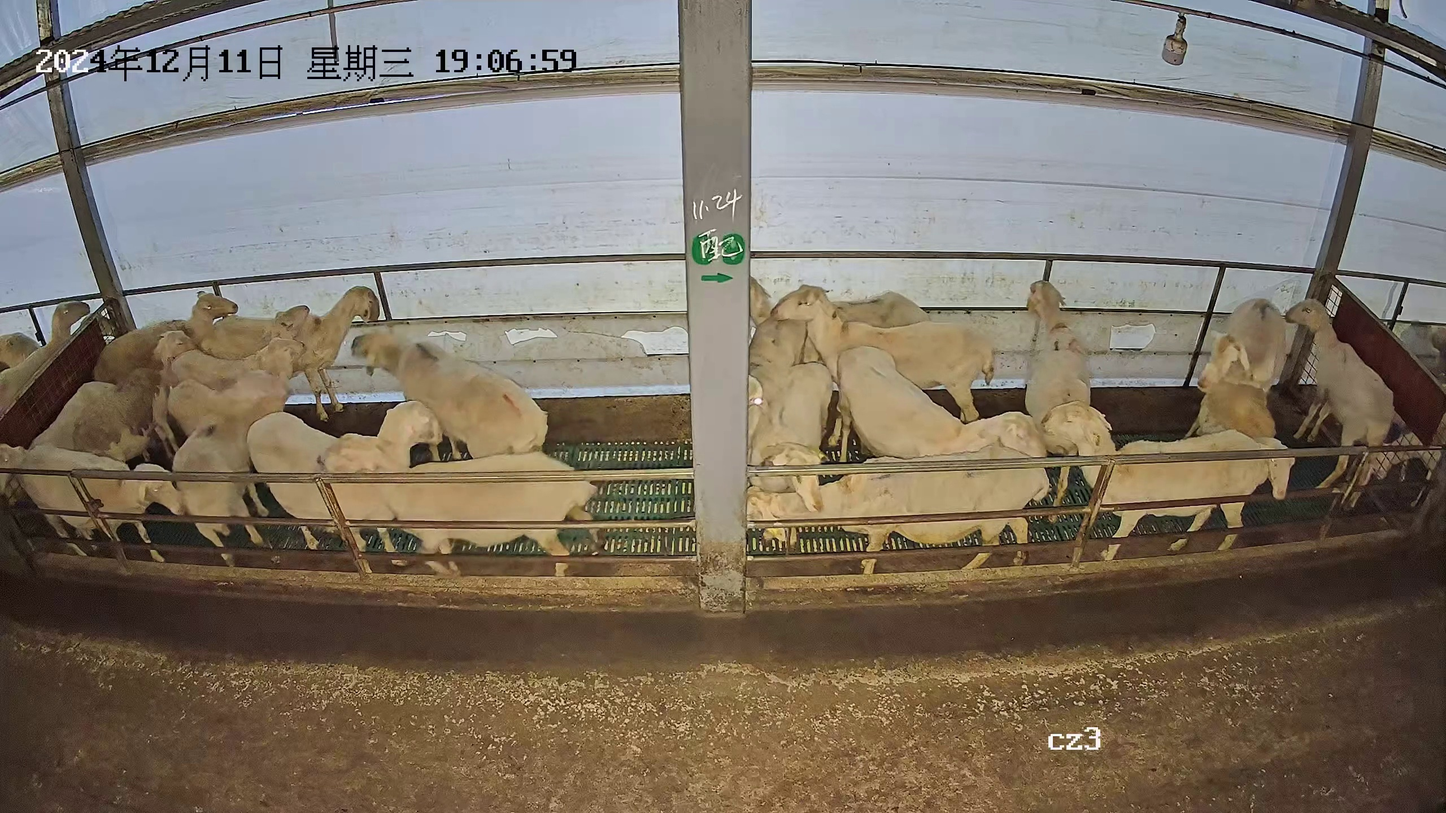Smounting: (1190, 296, 1304, 505)
mounted: (1195, 375, 1299, 503)
